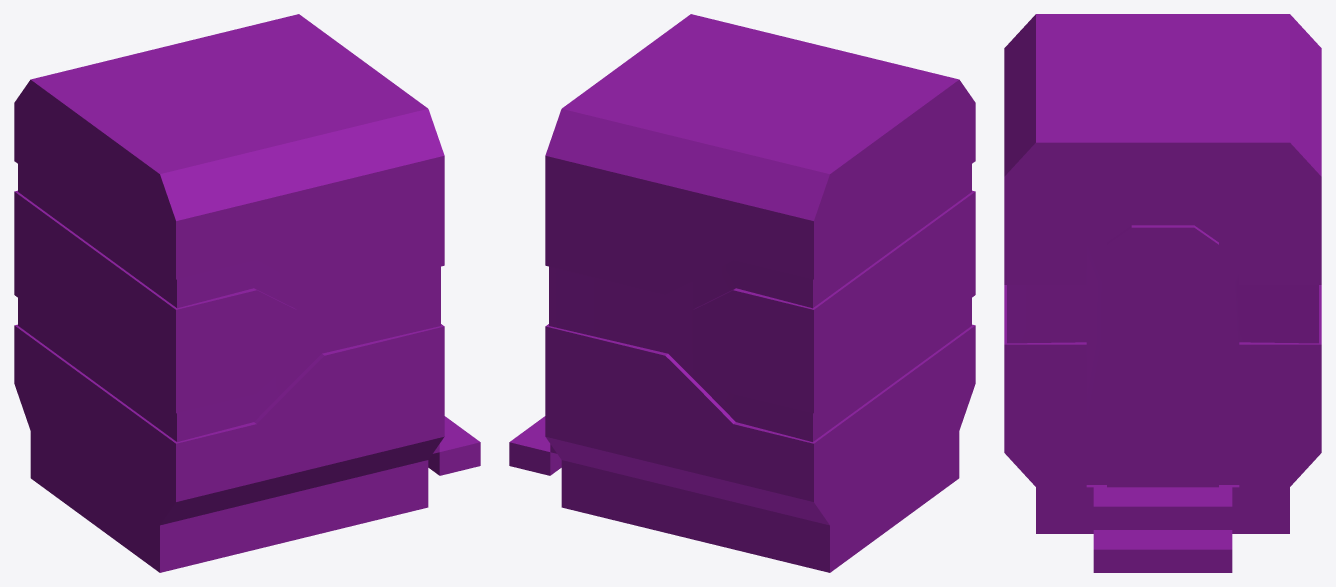
File: kuloshouse.fbx
3 views of the same model, side by side, from view 1: azimuth 30°, elevation 25°; view 2: azimuth 150°, elevation 25°; view 3: azimuth 270°, elevation 25° (orthographic).
Visible parts, largest first — view 1: tmine:group1polySurface5, tmine:group1polySurface4, tmine:pCube13group1, tmine:group1pCube14; view 2: tmine:group1polySurface5, tmine:group1polySurface4, tmine:pCube13group1, tmine:group1pCube14; view 3: tmine:group1polySurface5, tmine:group1polySurface4, tmine:group1pCube2, tmine:group1pCube14, tmine:pCube13group1.
Part boxes in pixels (<box>): tmine:group1polySurface5: <box>14,14,444,525</box>; tmine:group1polySurface4: <box>18,164,440,441</box>; tmine:pCube13group1: <box>30,431,428,572</box>; tmine:group1pCube14: <box>428,416,480,475</box>; tmine:group1polySurface5: <box>545,14,975,525</box>; tmine:group1polySurface4: <box>549,164,971,441</box>; tmine:pCube13group1: <box>561,431,959,572</box>; tmine:group1pCube14: <box>509,416,561,475</box>; tmine:group1polySurface5: <box>1004,14,1321,487</box>; tmine:group1polySurface4: <box>1007,209,1318,484</box>; tmine:group1pCube2: <box>1093,487,1232,529</box>; tmine:group1pCube14: <box>1093,530,1232,572</box>; tmine:pCube13group1: <box>1036,487,1289,533</box>.
Bounding box in the file's own units: 1.04 × 1.14 × 0.835.
